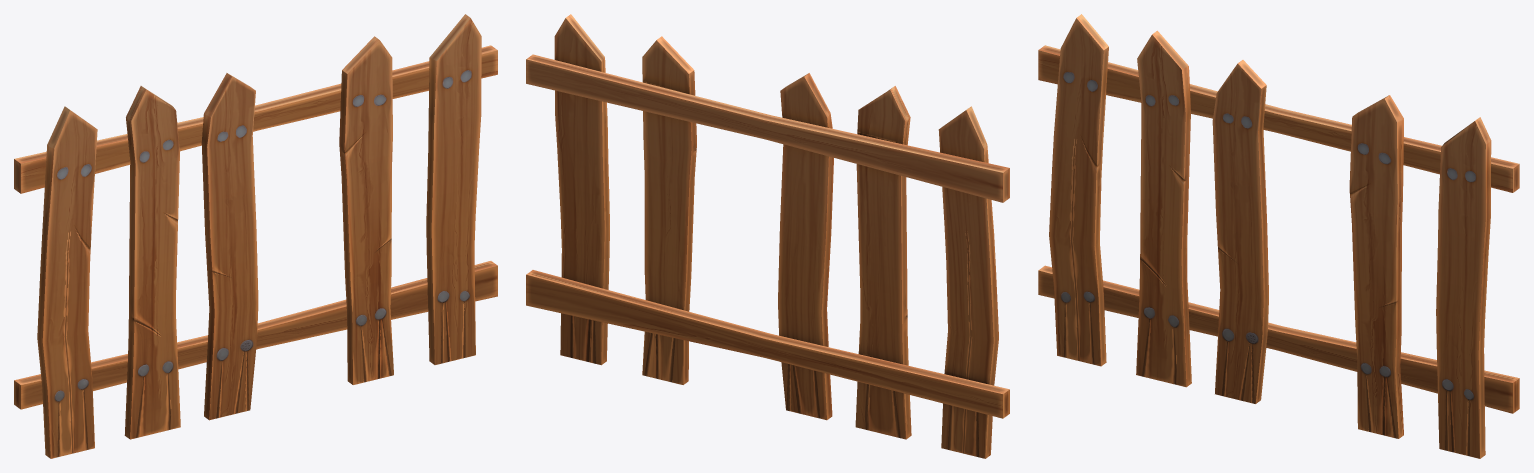
Rendered from Fences02_2.FBX.
3 renders of one model, left to right at view 1: azimuth 30°, elevation 25°; view 2: azimuth 150°, elevation 25°; view 3: azimuth 330°, elevation 25°, orthographic.
Parts seen in each view (by area): view 1: Fences02_2; view 2: Fences02_2; view 3: Fences02_2.
Boxes of the visible parts, x1,y1,x2,y2 form: Fences02_2: (14,14,497,458); Fences02_2: (526,14,1009,458); Fences02_2: (1038,14,1519,458).
Size of what is drawn, in the model's own units: 1.75 by 1.21 by 0.078.
